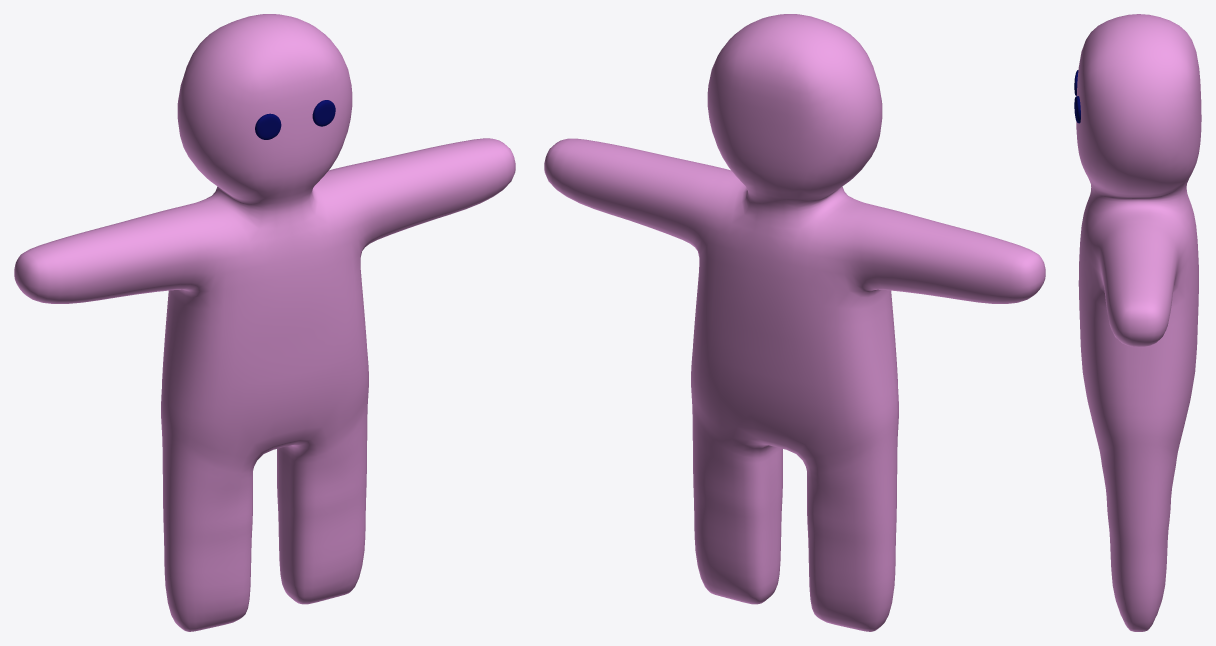
Rendered from CharacterV2.fbx.
3 renders of one model, left to right at view 1: azimuth 30°, elevation 25°; view 2: azimuth 150°, elevation 25°; view 3: azimuth 270°, elevation 25°, orthographic. The views are drawn at different scales.
Parts seen in each view (by area): view 1: CharacterV2; view 2: CharacterV2; view 3: CharacterV2.
Boxes of the visible parts, box(x1,y1,x2,y2) form: CharacterV2: box(14, 14, 515, 631); CharacterV2: box(544, 14, 1045, 631); CharacterV2: box(1074, 14, 1201, 631).
Size of the model in its own units: 149 by 171 by 34.45.
